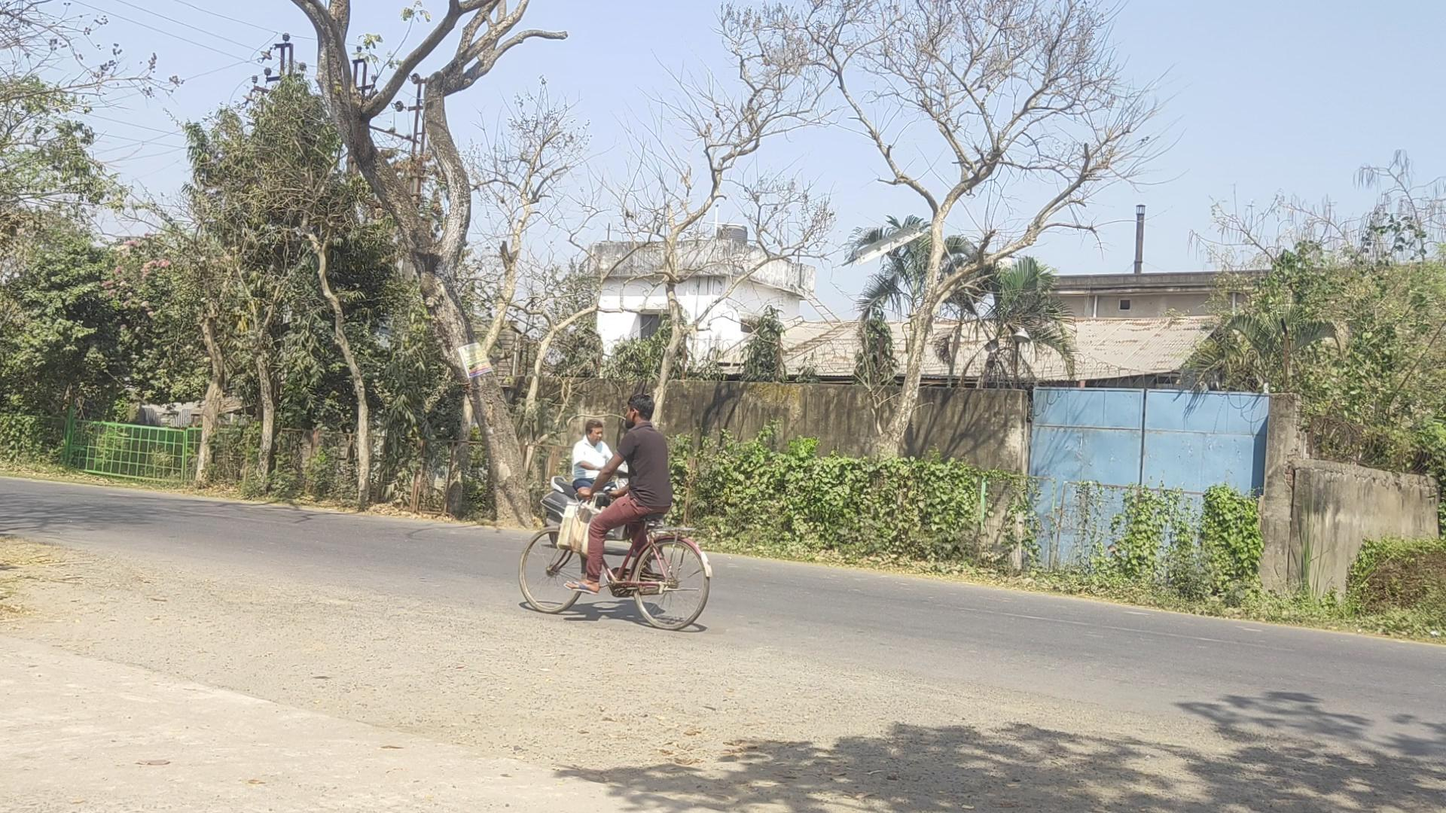bike: (518, 394, 713, 631), (538, 420, 667, 559)
